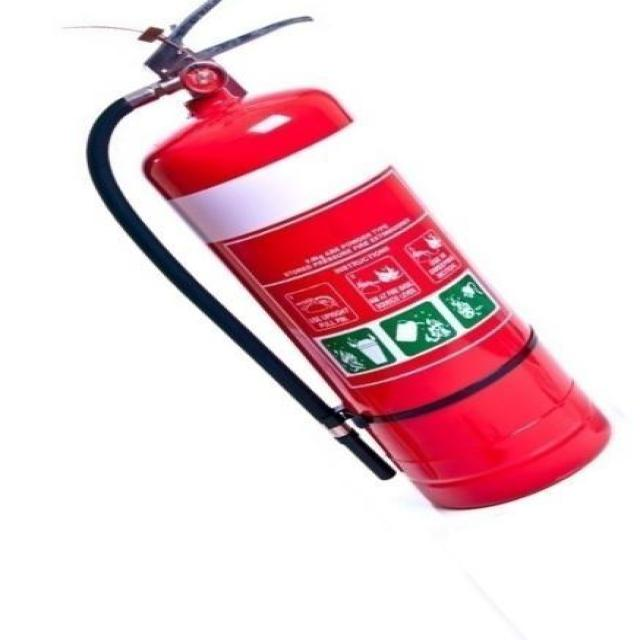fire_extinguisher: (80, 0, 619, 515)
